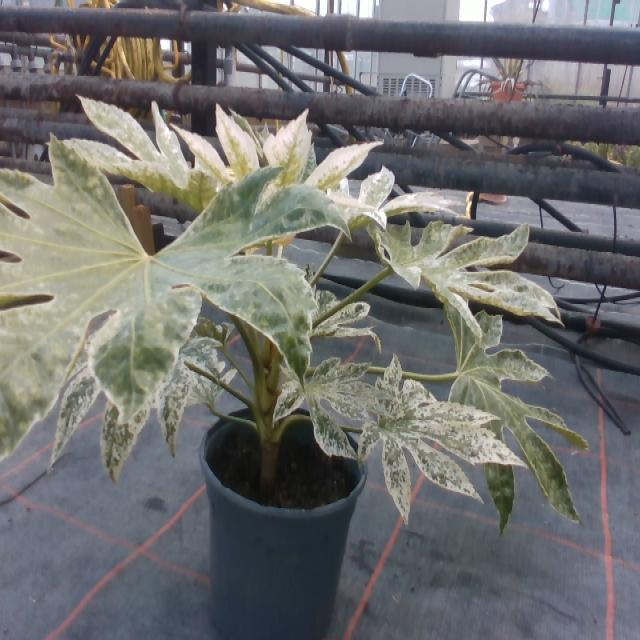Fatsia-japonica: (3, 128, 320, 494), (66, 75, 275, 242), (52, 292, 227, 488), (430, 292, 580, 516), (354, 330, 500, 534), (207, 62, 361, 244), (372, 195, 542, 328), (272, 342, 364, 450), (290, 262, 380, 358)
